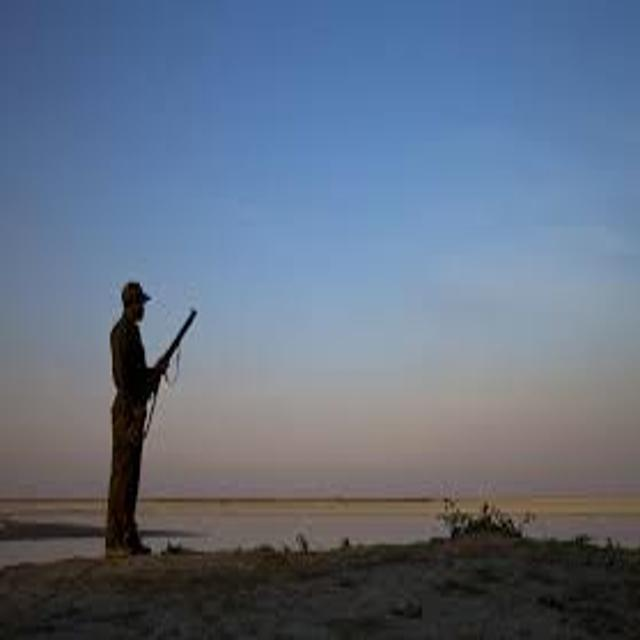gun: (111, 291, 214, 441)
poacher: (65, 261, 218, 576)
